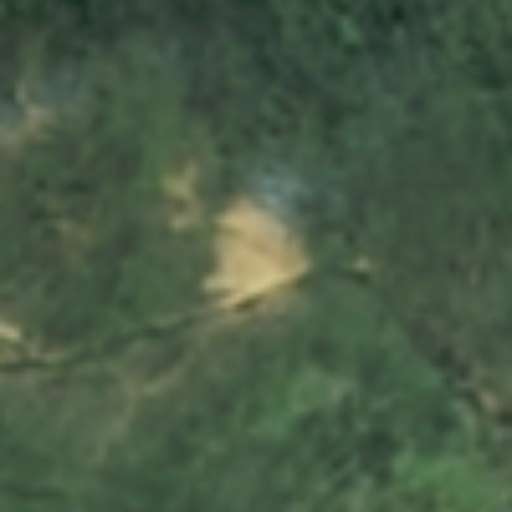landslide: (213, 195, 305, 311)
